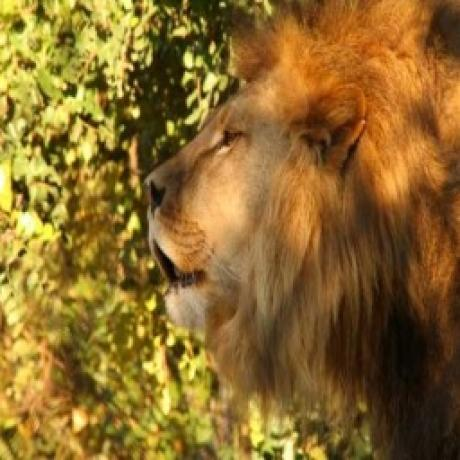Lion: (147, 0, 460, 460)
